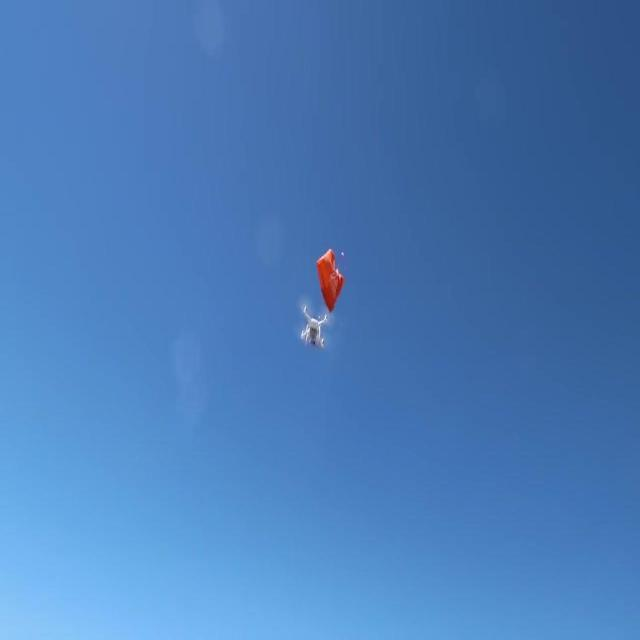drone: (300, 305, 328, 353)
